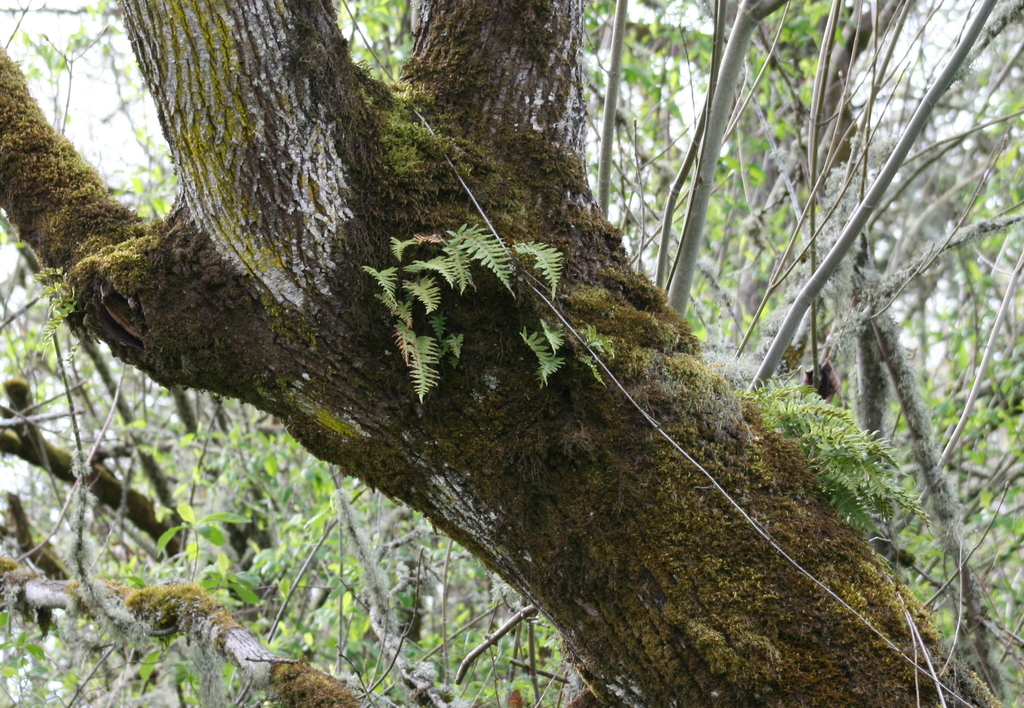Tree: (0, 13, 999, 666)
